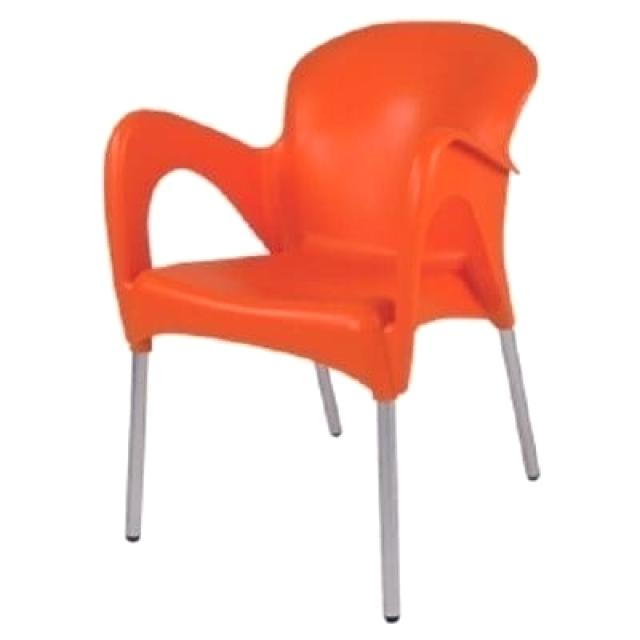Chair: (102, 17, 550, 627)
